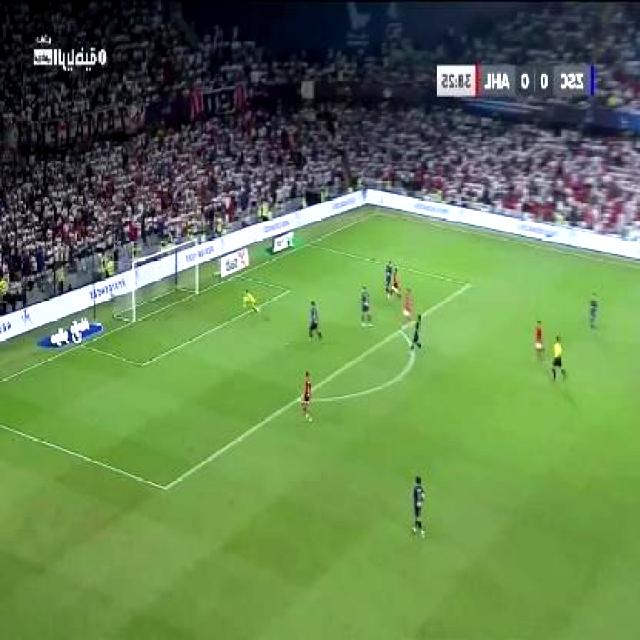bigarea_bottom_inner: (157, 476, 175, 498)
bigarea_top_inner: (463, 274, 479, 294)
bigarea_top_outter: (303, 235, 315, 251)
bottom_arc_area_intersection: (289, 391, 305, 409)
corner: (371, 206, 386, 219)
smallarea_bottom_inner: (136, 352, 152, 374)
smallarea_bottom_outter: (76, 337, 90, 351)
smallarea_top_inner: (283, 282, 295, 296)
smallarea_top_outter: (231, 268, 246, 282)
top_arc_area_intersection: (394, 320, 409, 340)
